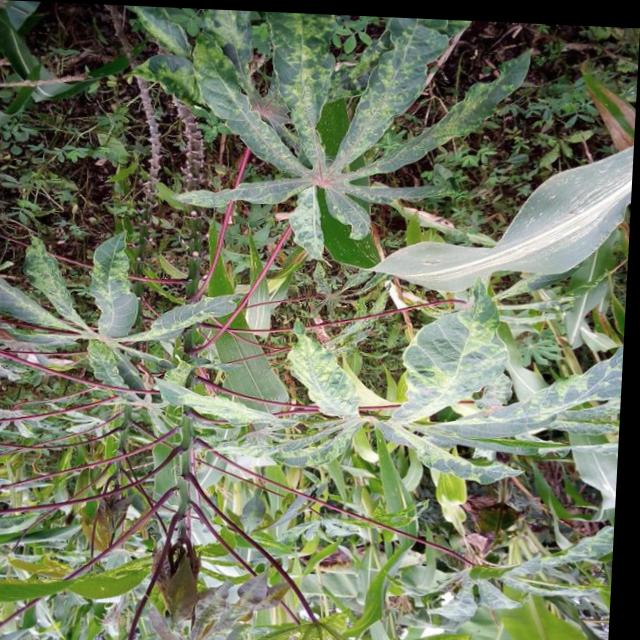Mosaico: (276, 311, 640, 524), (209, 1, 455, 239), (15, 225, 208, 404)
